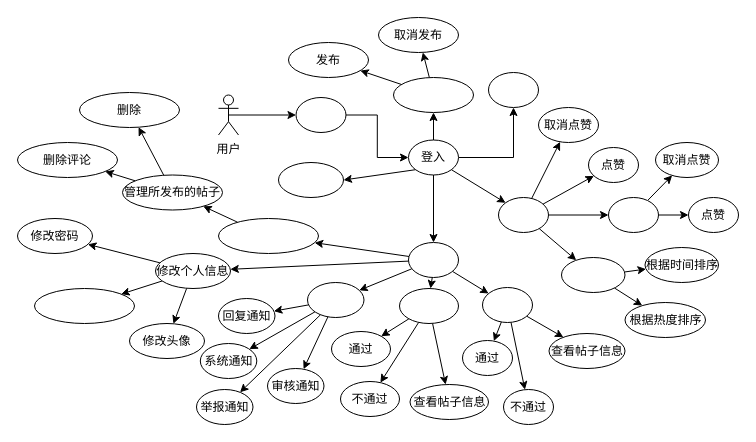
Some shapes in this 756 by 442 pixel diagram are drawn without their labels. Here are the shapes that lost their labels. From the top down, the centre of each, then its label:
point (433, 94): 发布帖子
point (513, 90): 退出登入
point (320, 114): 注册
point (311, 180): 联系管理员
point (523, 214): 帖子
point (633, 214): 评论
point (268, 236): 用户发布所有帖子
point (433, 260): 个人中心
point (592, 274): 搜索帖子
point (84, 306): 修改个人基本信息
point (335, 300): 消息通知
point (428, 306): 帖子审核
point (507, 304): 举报审核
